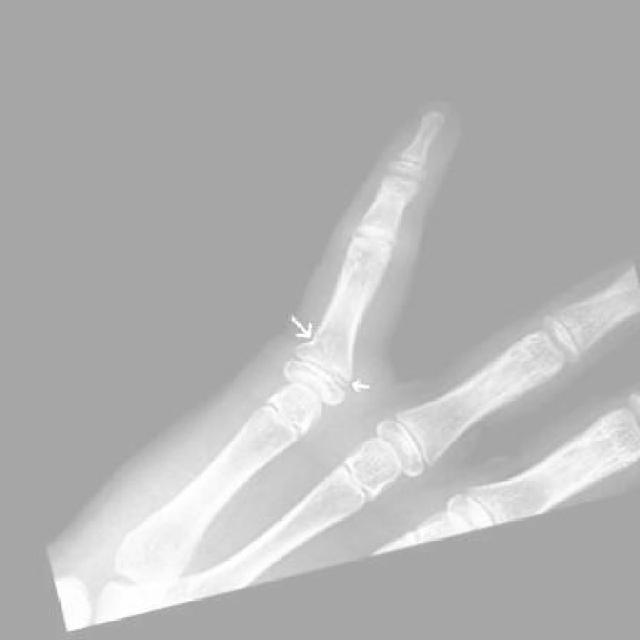Fracture: (295, 326, 368, 403)
